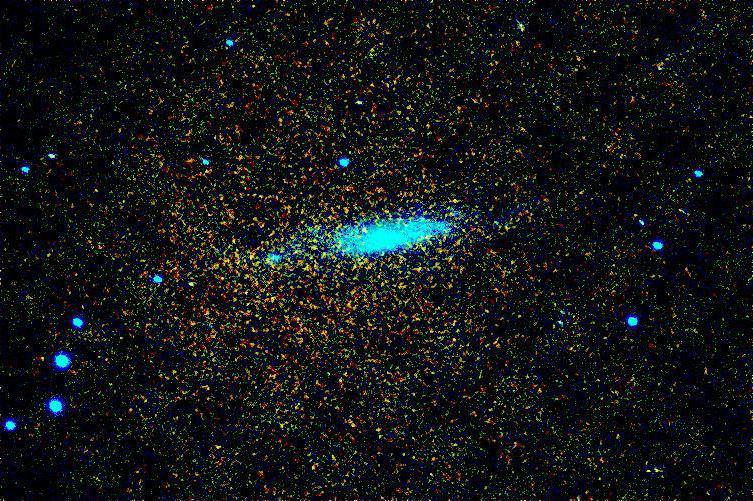star: (353, 216, 383, 246)
